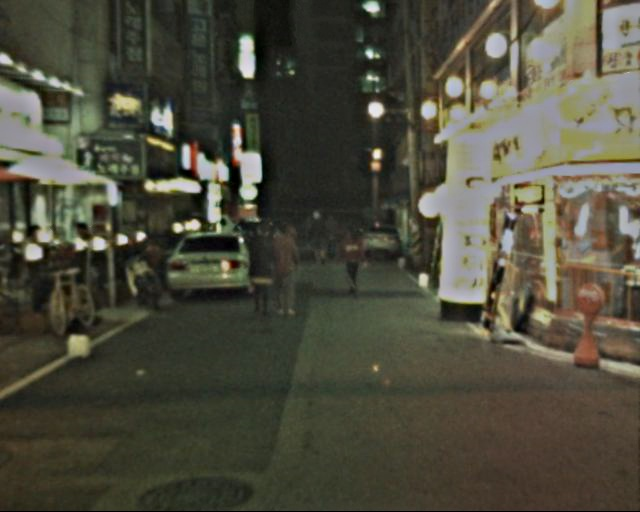person: (268, 224, 308, 327), (244, 223, 279, 326), (341, 222, 373, 292), (306, 206, 333, 270)
